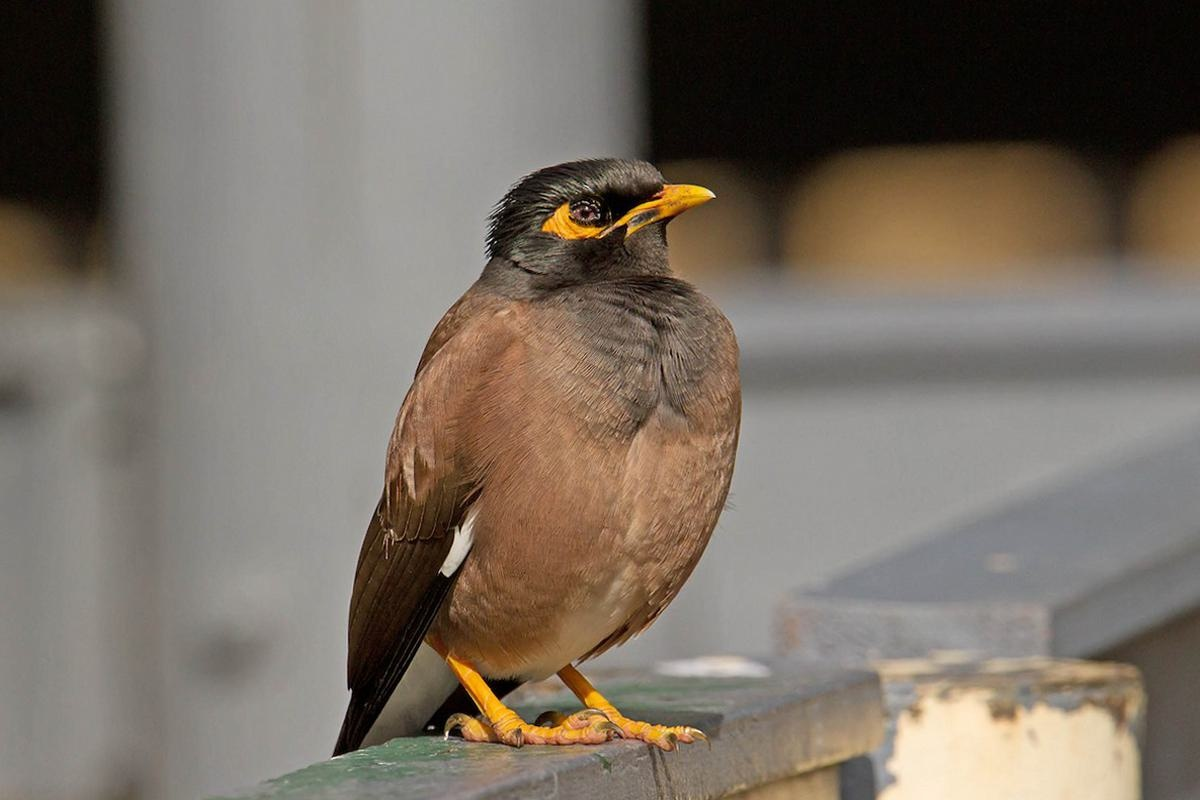myna: (329, 123, 777, 710)
